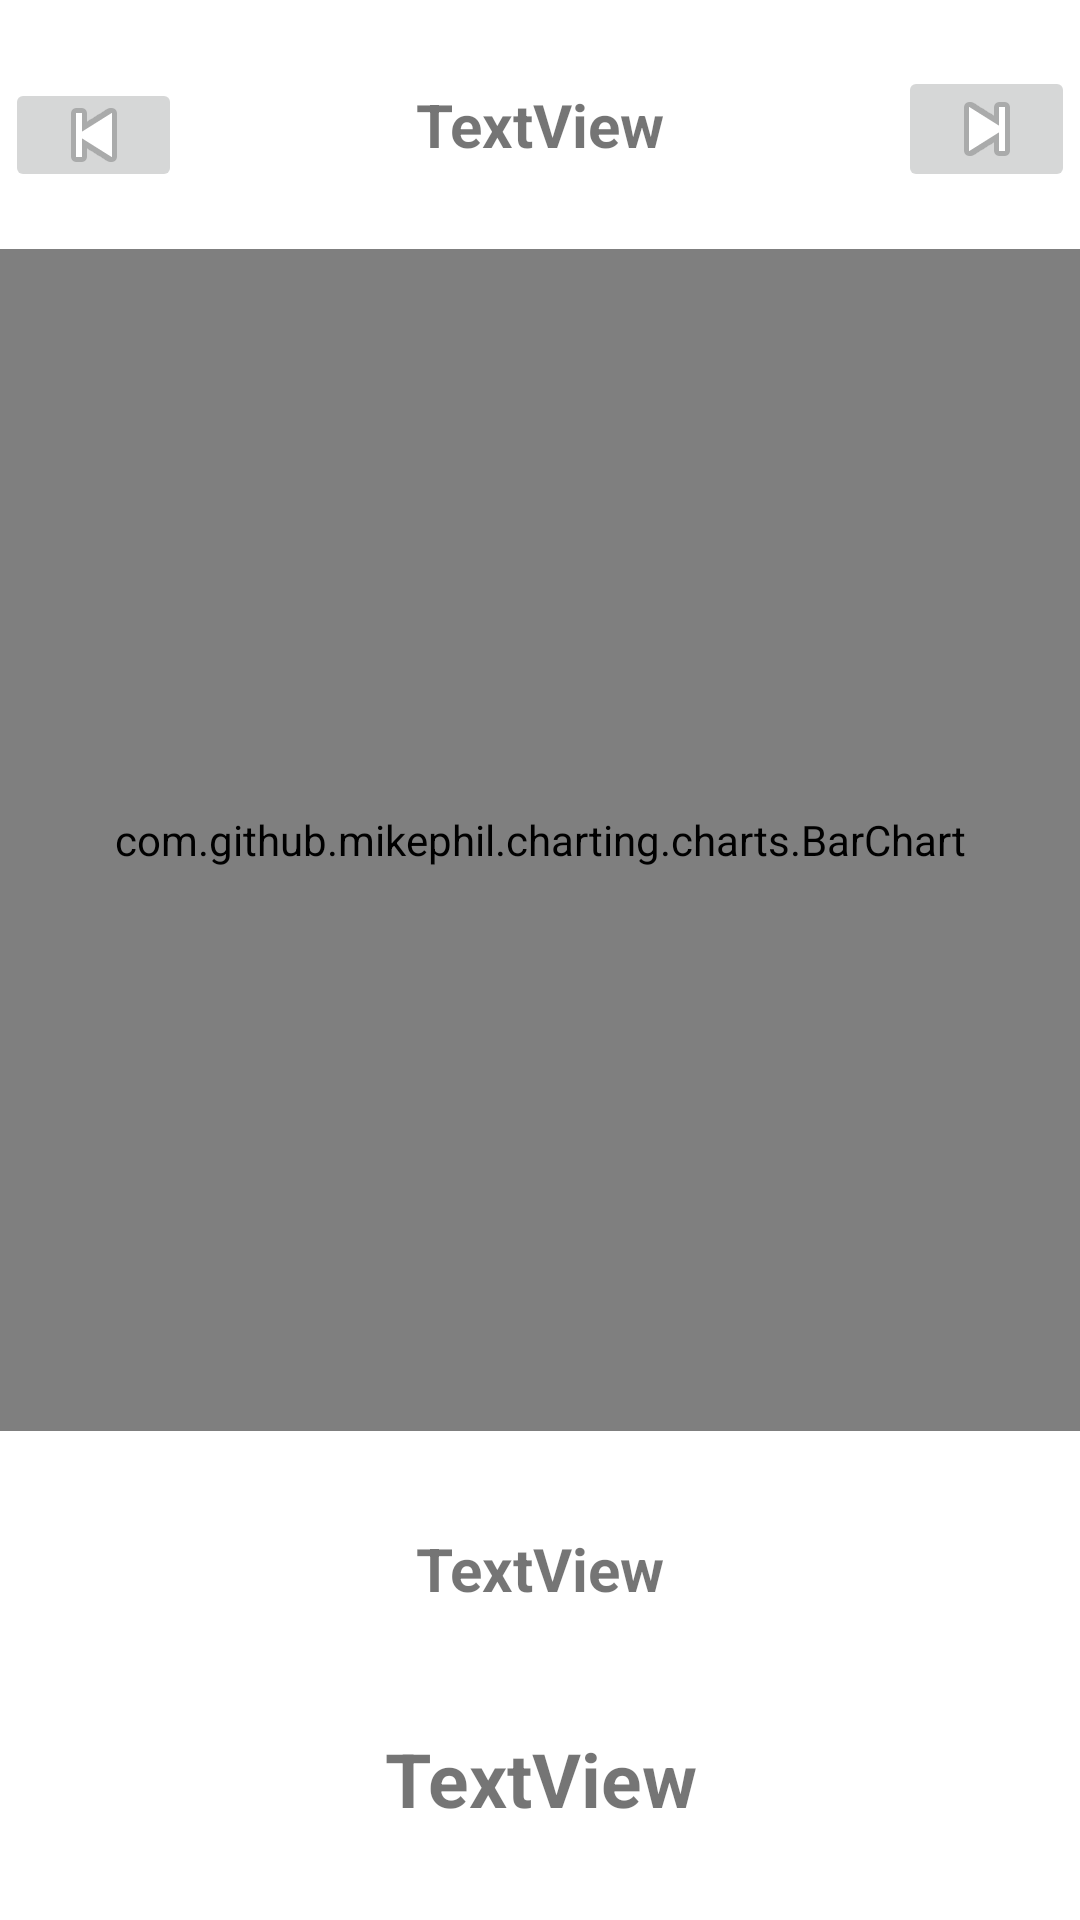

Named icons in this screenshot (1080px x 1920px) and their centers, [x,y]:
next: [986,129]
previous: [93,135]
